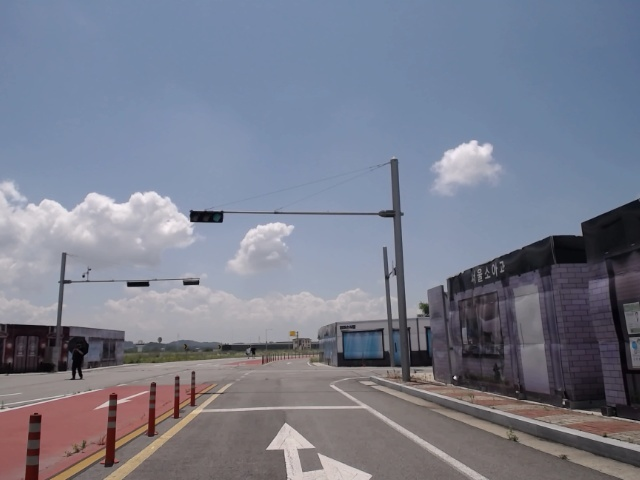green_3: (191, 212, 223, 222)
